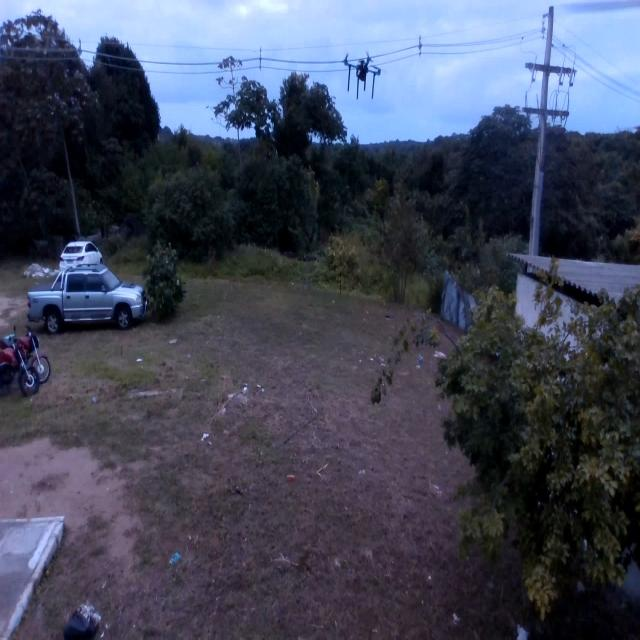-uav-: (332, 40, 387, 110)
